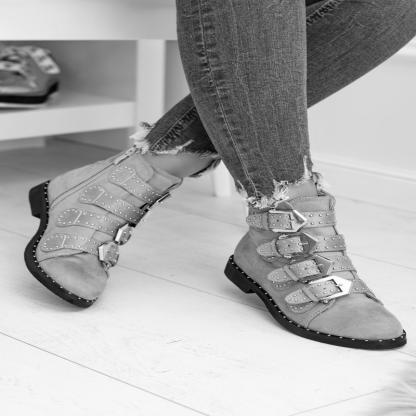ankle: (81, 176, 90, 183), (265, 234, 274, 238)
heel: (238, 271, 243, 275), (42, 186, 46, 190)
left_foot: (27, 148, 184, 311)
pinky: (344, 332, 354, 337), (97, 289, 102, 296)
right_foot: (225, 190, 408, 351)
toe: (65, 277, 77, 285), (391, 322, 401, 330)
